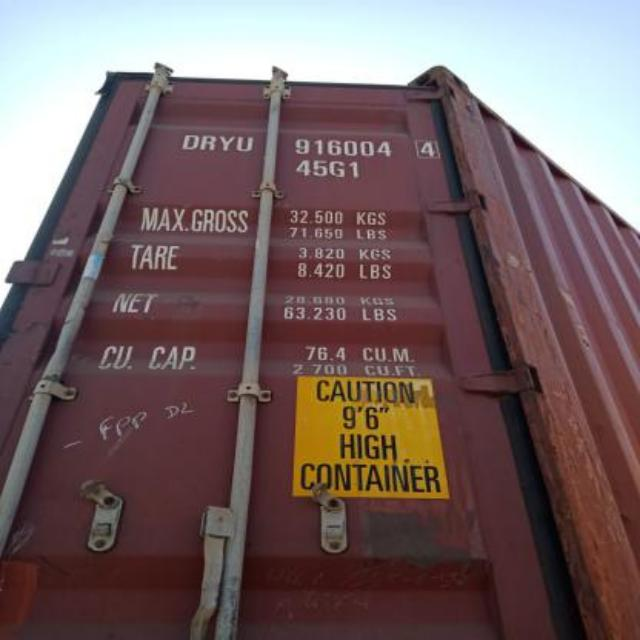0: (342, 134, 360, 160), (361, 130, 373, 162)
1: (312, 132, 326, 160)
4: (416, 134, 439, 160), (374, 135, 394, 161)
6: (328, 130, 342, 160)
9: (293, 132, 309, 158)
D: (182, 126, 198, 158)
R: (199, 128, 217, 162)
U: (234, 125, 256, 161)
Y: (217, 128, 233, 162)
